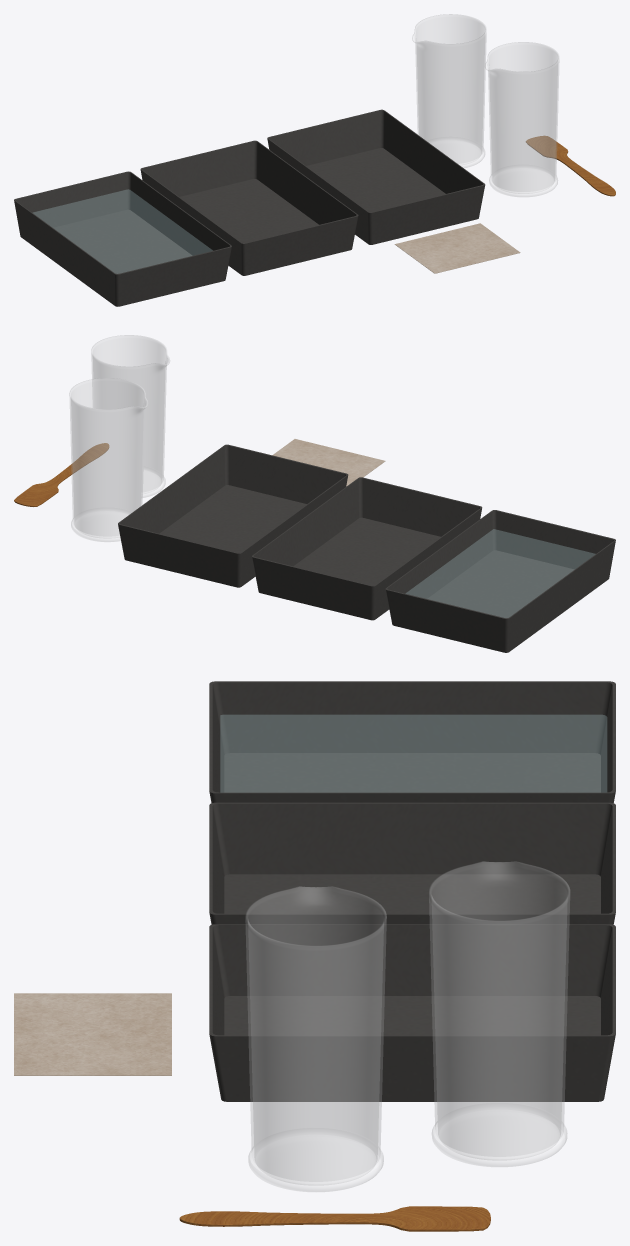
The model's file is AAH_step06_opt.glb.
3 views of the same model, one above another, from view 1: azimuth 30°, elevation 25°; view 2: azimuth 150°, elevation 25°; view 3: azimuth 270°, elevation 25° (orthographic). The views are drawn at different scales.
Visible parts, largest first — view 1: tray_uv.004, tray_uv.002, tray_uv.003, graduatedCylinder_uv.003, graduatedCylinder_uv.004, Plane, paper.003, woodenSpoon_uv.003; view 2: tray_uv.004, tray_uv.002, tray_uv.003, graduatedCylinder_uv.004, Plane, graduatedCylinder_uv.003, paper.003, woodenSpoon_uv.003; view 3: tray_uv.002, tray_uv.003, tray_uv.004, graduatedCylinder_uv.003, graduatedCylinder_uv.004, Plane, paper.003, woodenSpoon_uv.003.
Part boxes in pixels (box(x1,y1,x2,y2)): tray_uv.004: box(14, 171, 231, 306); tray_uv.002: box(267, 109, 485, 244); tray_uv.003: box(140, 140, 358, 275); graduatedCylinder_uv.003: box(485, 42, 559, 196); graduatedCylinder_uv.004: box(412, 14, 486, 167); Plane: box(33, 189, 212, 273); paper.003: box(394, 223, 520, 273); woodenSpoon_uv.003: box(526, 135, 615, 196); tray_uv.004: box(385, 510, 615, 652); tray_uv.002: box(118, 444, 348, 587); tray_uv.003: box(252, 477, 482, 620); graduatedCylinder_uv.004: box(69, 378, 147, 541); Plane: box(406, 529, 594, 617); graduatedCylinder_uv.003: box(91, 335, 169, 497); paper.003: box(272, 439, 385, 486); woodenSpoon_uv.003: box(14, 443, 109, 506); tray_uv.002: box(209, 924, 615, 1101); tray_uv.003: box(209, 802, 615, 924); tray_uv.004: box(209, 681, 615, 803); graduatedCylinder_uv.003: box(245, 886, 386, 1191); graduatedCylinder_uv.004: box(429, 861, 569, 1166); Plane: box(220, 715, 606, 792); paper.003: box(14, 993, 171, 1075); woodenSpoon_uv.003: box(179, 1206, 490, 1231).
Bounding box in the file's own units: 42.19 × 10.22 × 22.29.
Materials: 5 (3 with a texture image).
